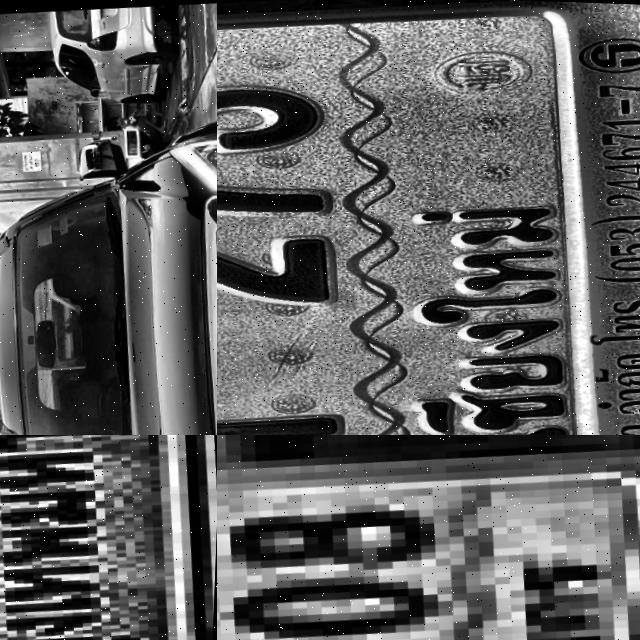license-plate: (217, 0, 640, 435), (217, 435, 640, 640), (0, 435, 217, 640)
